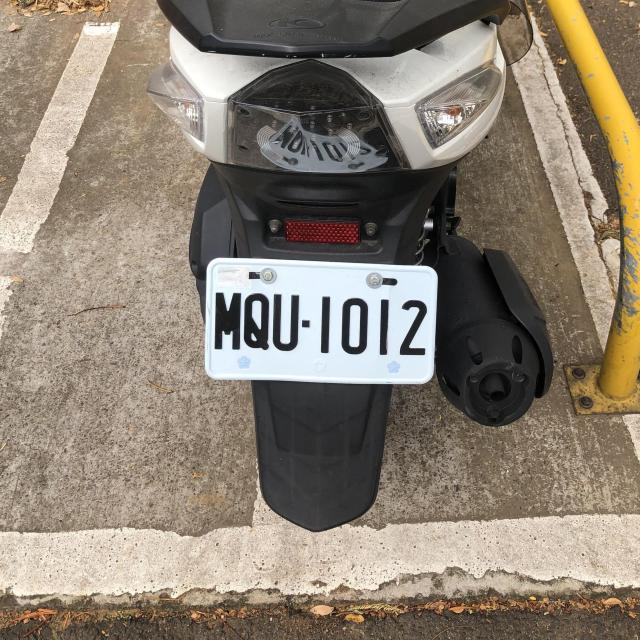W: (200, 257, 437, 385)
